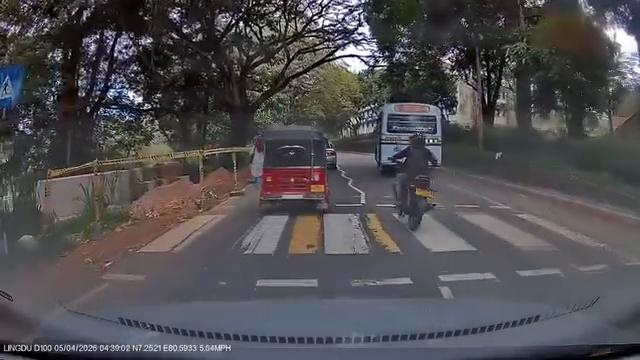illegal overtaking: (386, 132, 437, 240)
number plate: (413, 186, 436, 199)
